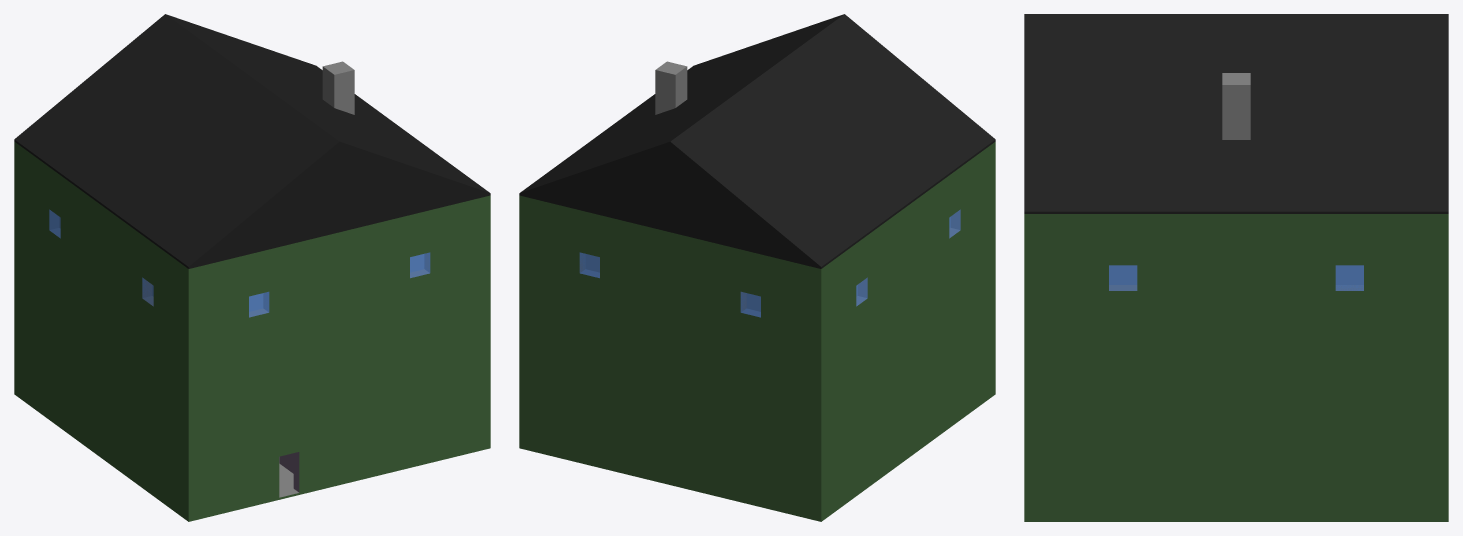
Rendered from House4c_valmis.fbx.
The picture shows the model from 3 angles, left to right: view 1: azimuth 30°, elevation 25°; view 2: azimuth 150°, elevation 25°; view 3: azimuth 270°, elevation 25°; orthographic projection. The views are drawn at different scales.
Visible parts, largest first — view 1: Roof, Floor2, Floor1, Floor3; view 2: Roof, Floor1, Floor2, Floor3; view 3: Roof, Floor2, Floor1, Floor3, Glass5, Glass8.
Part boxes in pixels (bbox=[...]): Roof: bbox=[14, 14, 490, 268]; Floor2: bbox=[14, 226, 490, 437]; Floor1: bbox=[14, 310, 490, 521]; Floor3: bbox=[14, 142, 490, 353]; Roof: bbox=[519, 14, 995, 268]; Floor1: bbox=[519, 310, 995, 521]; Floor2: bbox=[519, 226, 995, 437]; Floor3: bbox=[519, 142, 995, 353]; Roof: bbox=[1024, 14, 1448, 213]; Floor2: bbox=[1024, 316, 1448, 419]; Floor1: bbox=[1024, 419, 1448, 521]; Floor3: bbox=[1024, 214, 1448, 316]; Glass5: bbox=[1335, 265, 1363, 290]; Glass8: bbox=[1109, 265, 1137, 290].
Bounding box in the file's own units: 3000 × 3260 × 3000.
